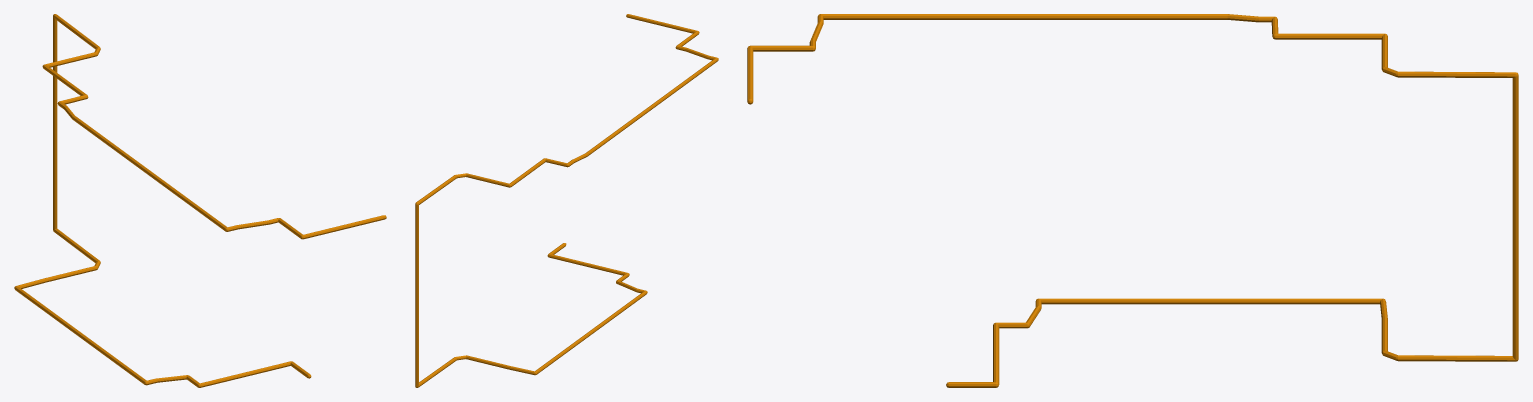
3 views of the same model, side by side, from view 1: azimuth 30°, elevation 25°; view 2: azimuth 150°, elevation 25°; view 3: azimuth 270°, elevation 25° (orthographic). The views are drawn at different scales.
Size of the model in its own units: 660 by 1020 by 2465.
